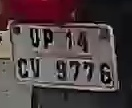1: (65, 29, 76, 56)
4: (78, 30, 91, 56)
6: (100, 64, 111, 85)
7: (83, 62, 95, 84), (70, 62, 80, 83)
9: (55, 58, 68, 82)
C: (14, 59, 30, 80)
P: (40, 27, 56, 54)
U: (28, 28, 42, 51)
V: (29, 57, 45, 80)
